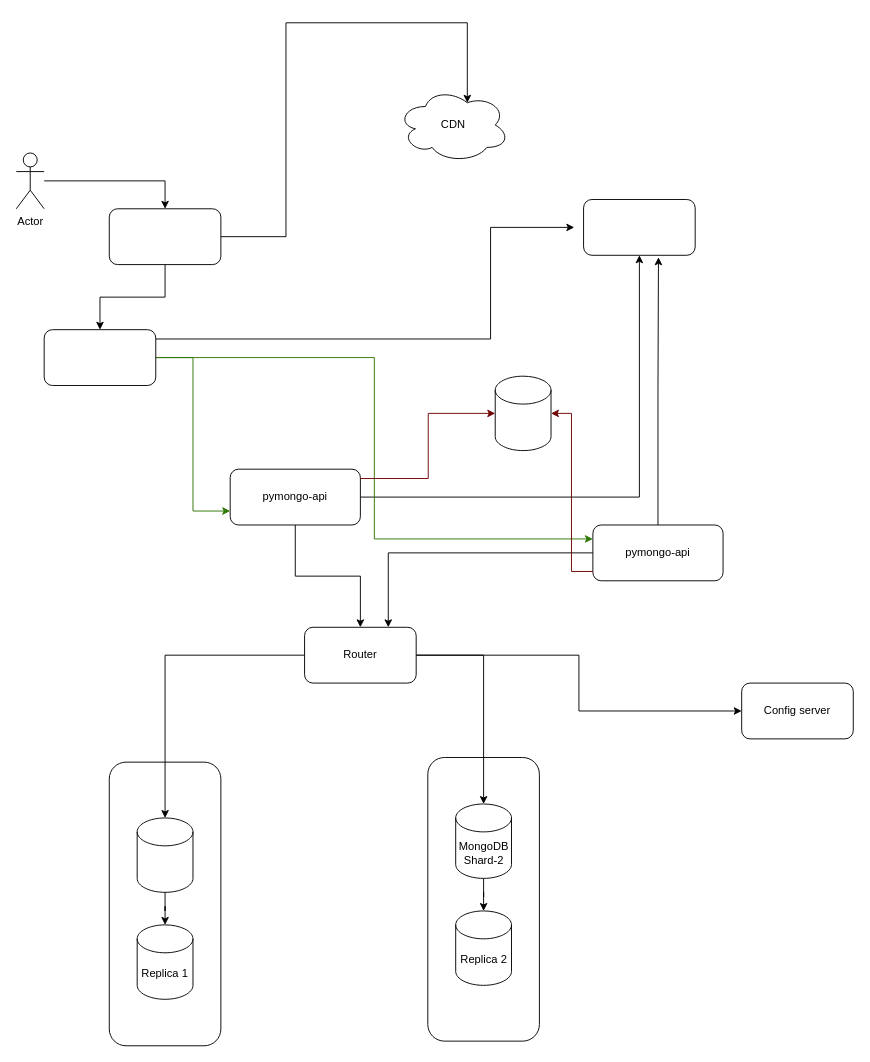
Image size: 870x1062. Some labels were removed from this diagram. The box of each missing label's shape, as (x1, y1, x2, y2) in pixels:
APISIX Gateway: (43, 329, 156, 385)
Consul: (583, 199, 695, 255)
MongoDB Shard-1: (136, 817, 193, 892)
React: (108, 208, 221, 265)
Redis: (494, 375, 551, 451)
